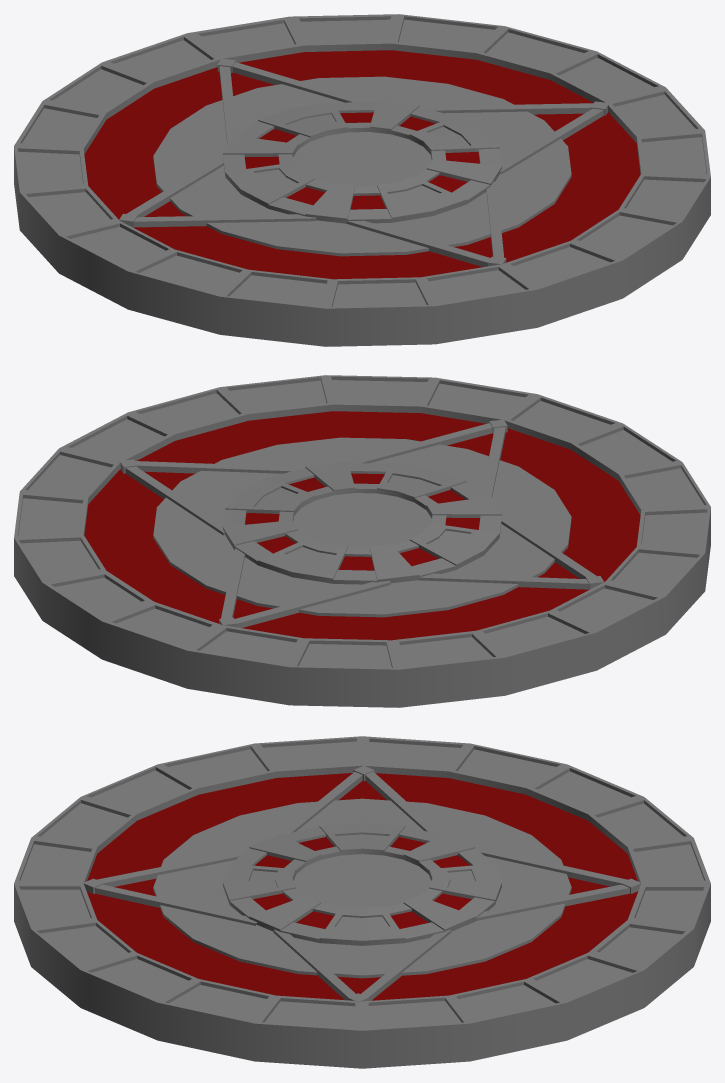
The picture shows the model from 3 angles, top to bottom: view 1: azimuth 30°, elevation 25°; view 2: azimuth 150°, elevation 25°; view 3: azimuth 270°, elevation 25°; orthographic projection.
Visible parts, largest first — view 1: pCube5 (×2); view 2: pCube5 (×2); view 3: pCube5 (×2).
Boxes of the visible parts, x1,y1,x2,y2 form: pCube5 (×2): (14, 14, 710, 346); pCube5 (×2): (14, 375, 710, 707); pCube5 (×2): (14, 736, 710, 1068).
Bounding box in the file's own units: 2 × 0.1367 × 2.
